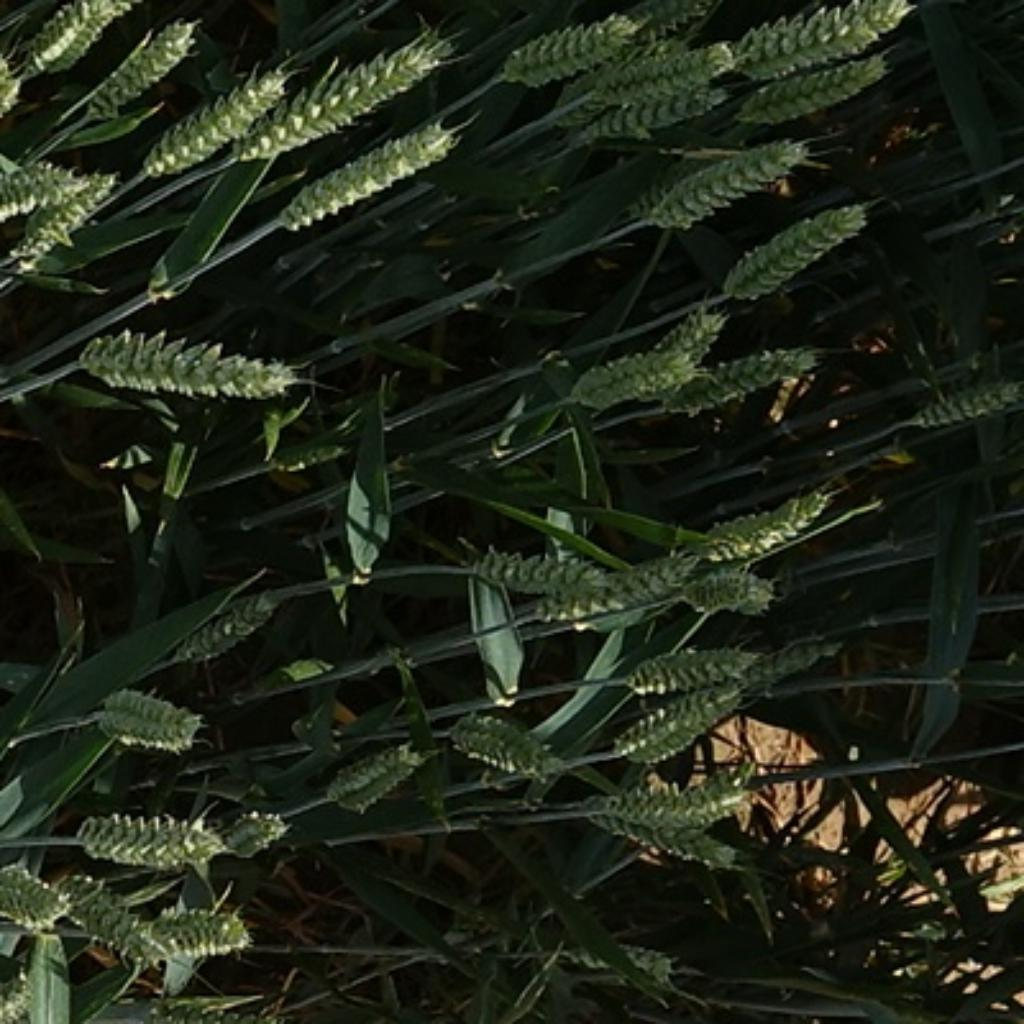0-0: (261, 112, 468, 232), (248, 48, 442, 166), (75, 322, 328, 412), (130, 53, 302, 179), (558, 304, 732, 417), (578, 760, 768, 857), (632, 128, 811, 230), (716, 186, 880, 296), (726, 0, 918, 80), (597, 678, 751, 772), (130, 880, 276, 975), (41, 868, 167, 971), (10, 166, 135, 266), (696, 478, 847, 560), (603, 627, 766, 702), (64, 798, 227, 870), (513, 557, 672, 630), (491, 10, 640, 87), (732, 48, 898, 117), (87, 12, 202, 110), (566, 83, 744, 146), (587, 29, 734, 102), (442, 696, 563, 780), (678, 340, 821, 407), (895, 370, 1024, 442), (87, 678, 207, 755), (168, 594, 281, 668), (461, 540, 605, 598), (728, 633, 849, 702), (598, 0, 716, 69), (322, 732, 424, 811), (565, 933, 675, 994), (33, 2, 130, 71), (668, 560, 785, 616), (0, 153, 81, 227), (204, 801, 296, 857), (0, 855, 61, 919)
